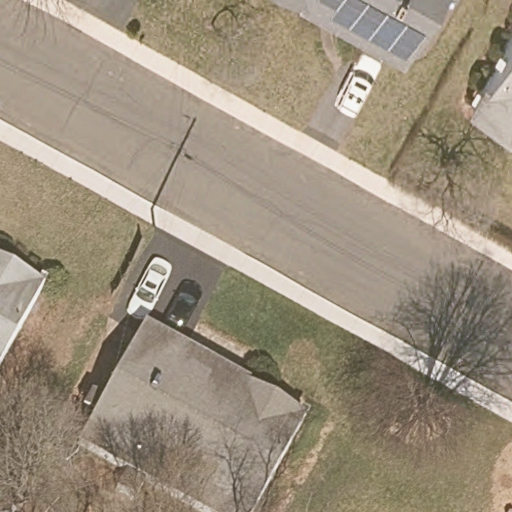DT: (145, 205, 160, 231)
